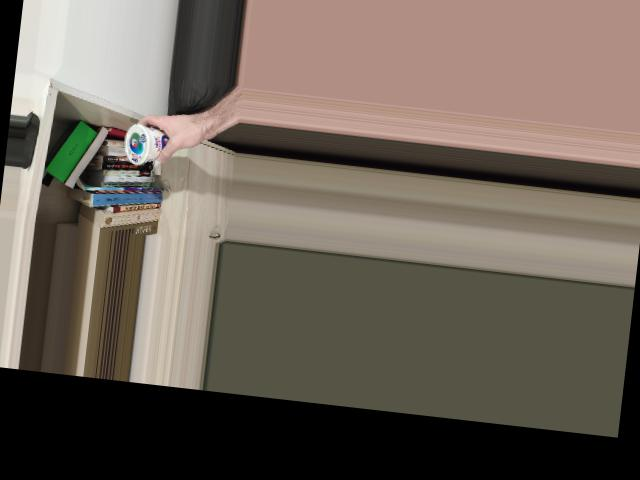cotage: (119, 118, 177, 169)
